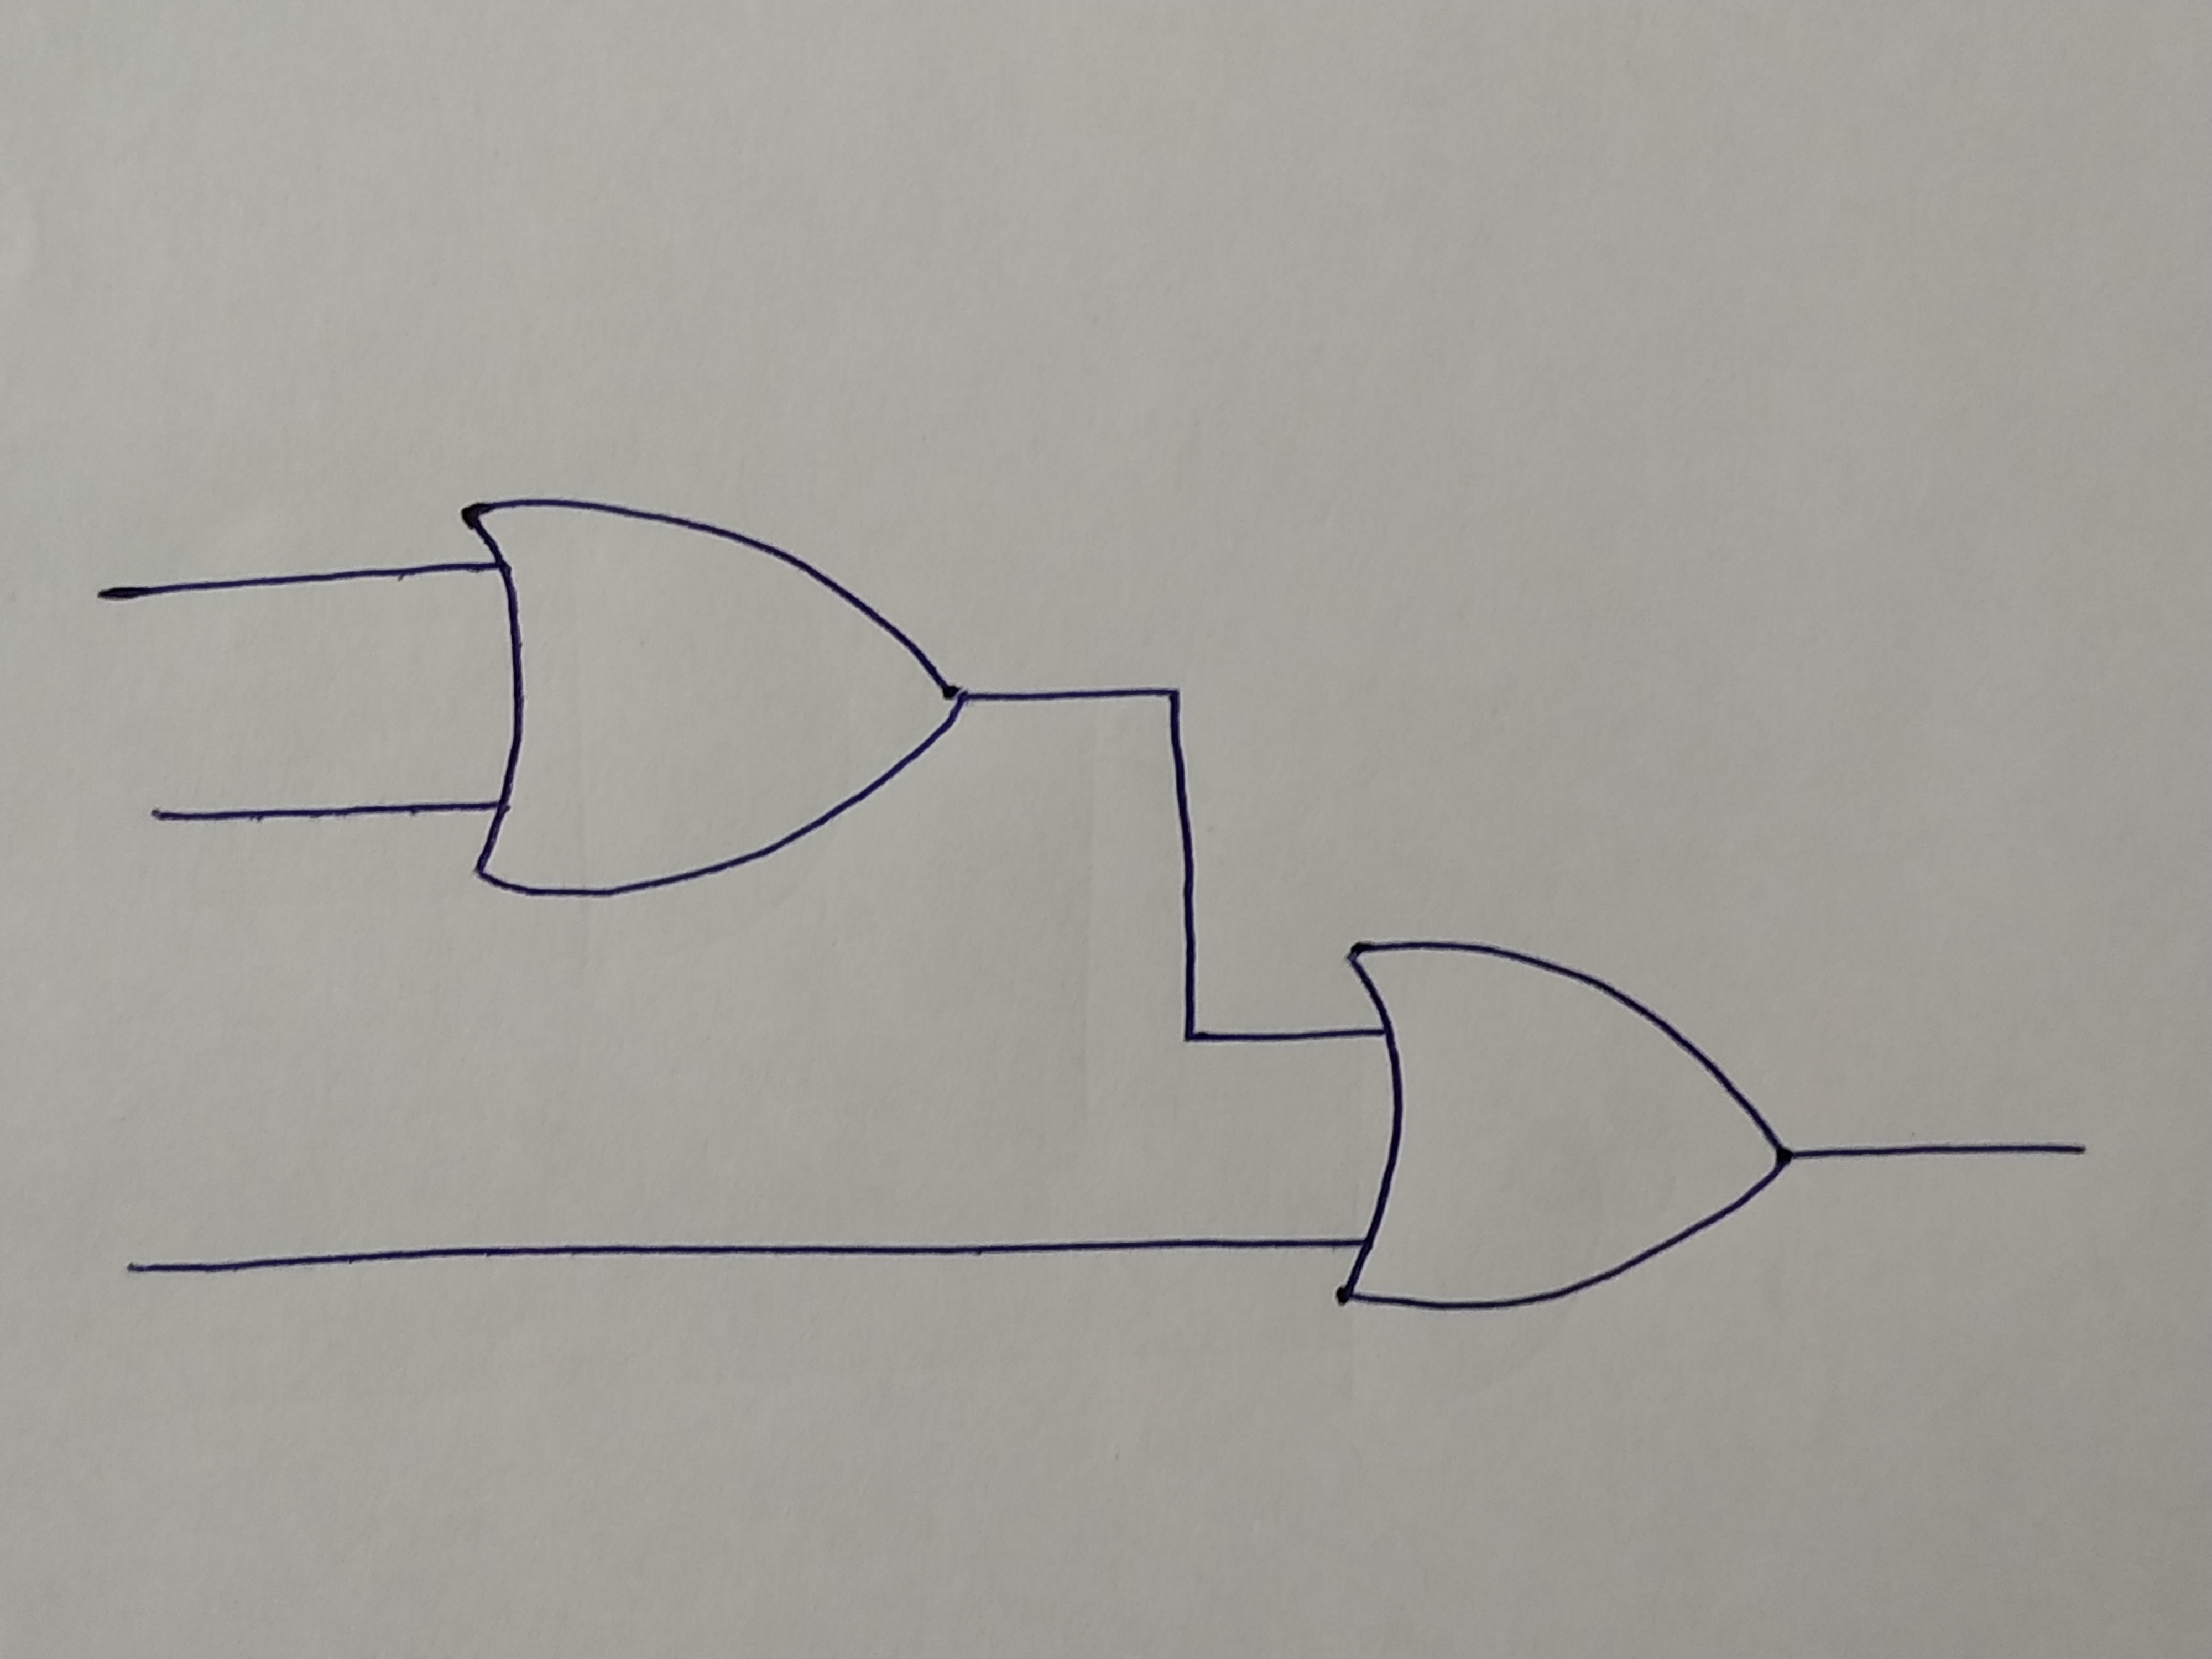or: (449, 502, 963, 899), (1345, 941, 1791, 1312)
